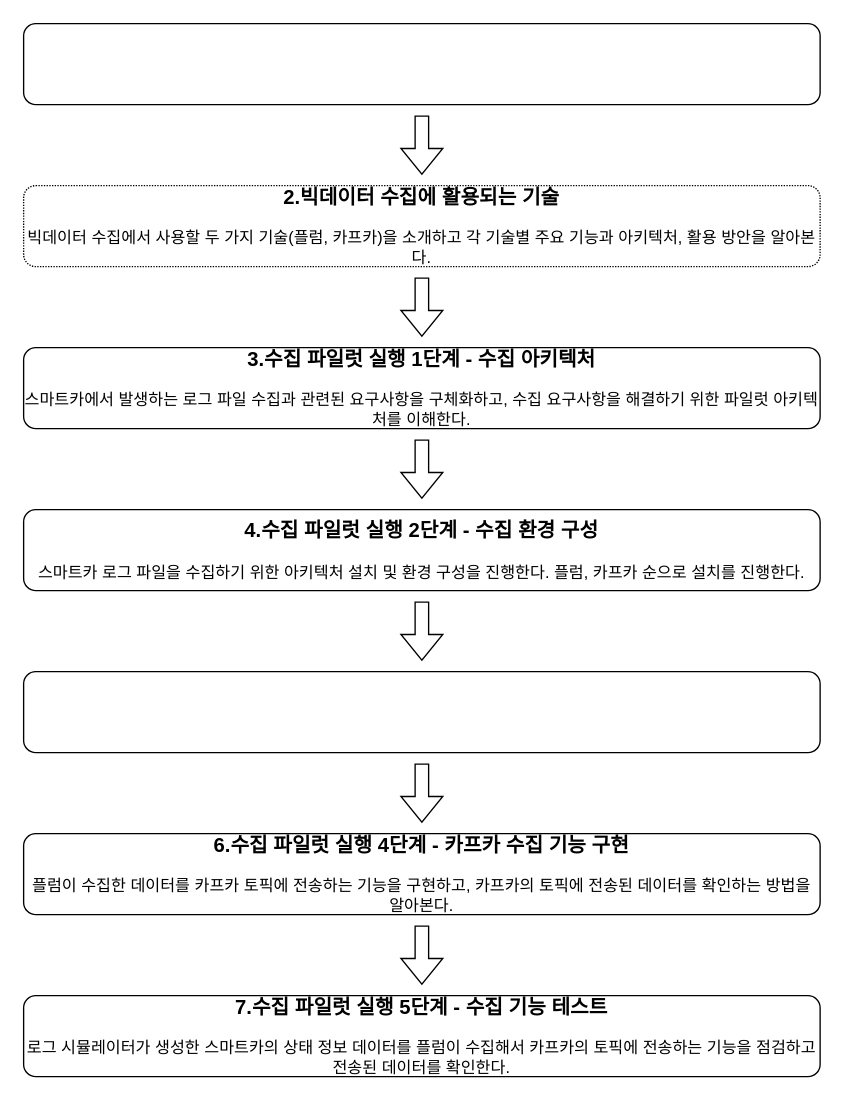
Some shapes in this 844 by 1100 pixel diagram are drawn without their labels. Here are the shapes that lost their labels. From the top down, the centre of each, then its label:
At (421,63): "1.빅데이터 수집 개요 빅데이터 수집의 개념과 중요성을 설명하고, 일반 수집과의 차이점을 설명한다.".
At (421,711): "5.수집 파일럿 실행 3단계 - 플럼 수집 기능 구현 스마트카 로그 파일을 수집하기 위한 플럼의 환경을 구성하고 관련 에이전트를 생성한다.".
